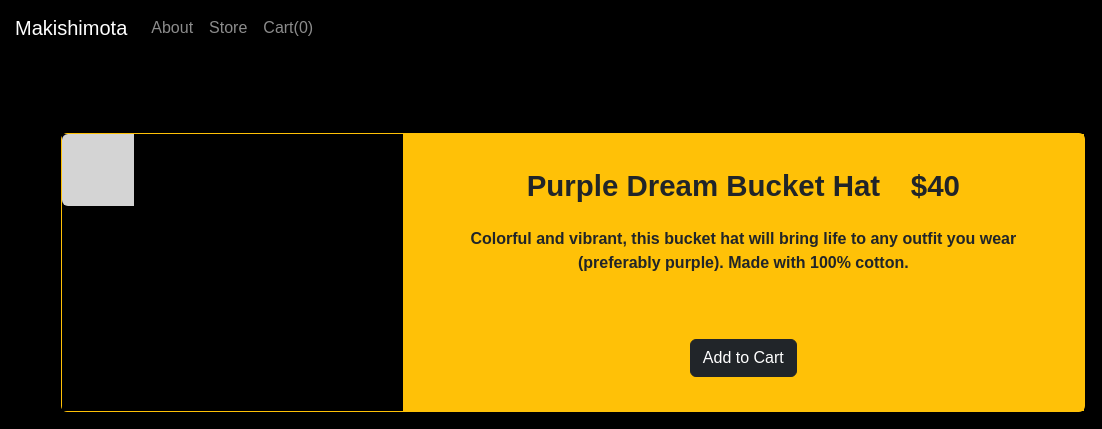
Scenario: Product is removed from cart
Note: click add to cart
Click the button "Add to Cart": click(743, 358) [690,339,797,377]
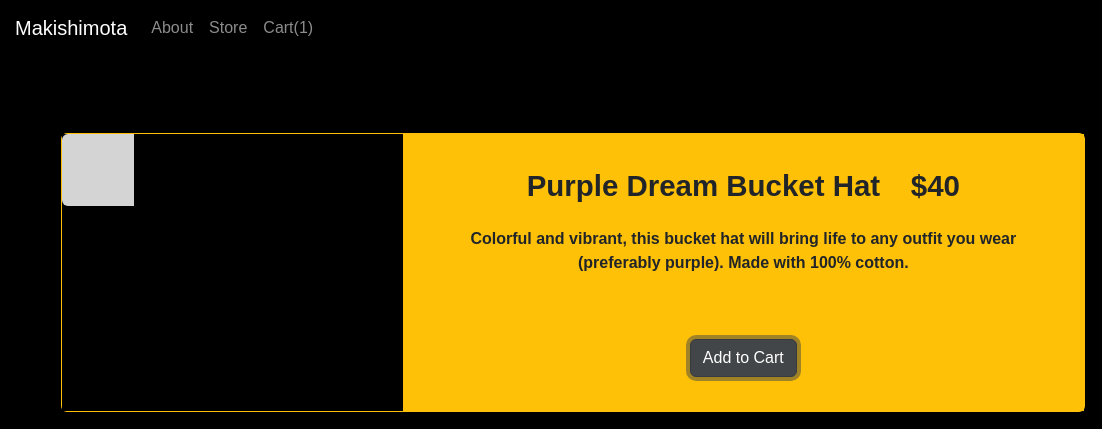
Note: navigate to shop page
Click the link "Cart(1)": click(288, 28) [255,8,321,48]
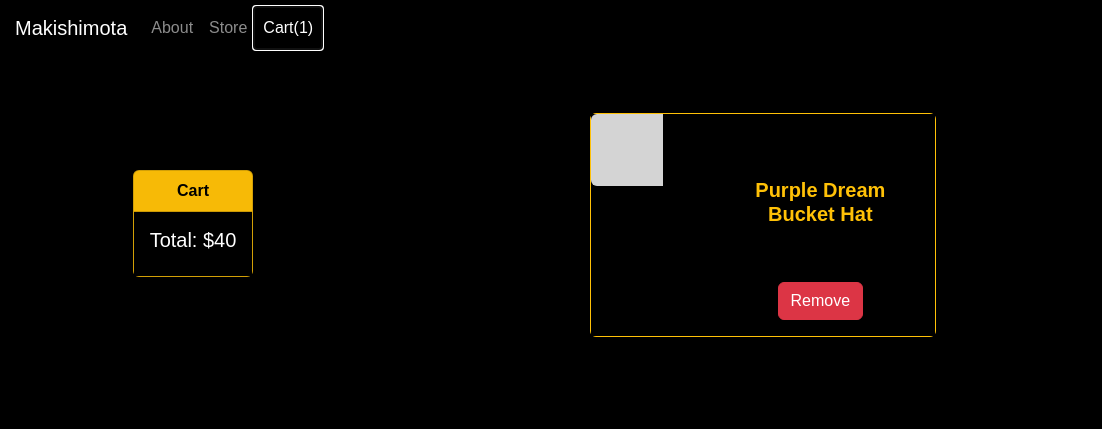
Note: click remove button
Click the button "Remove": click(820, 301) [778,282,863,320]
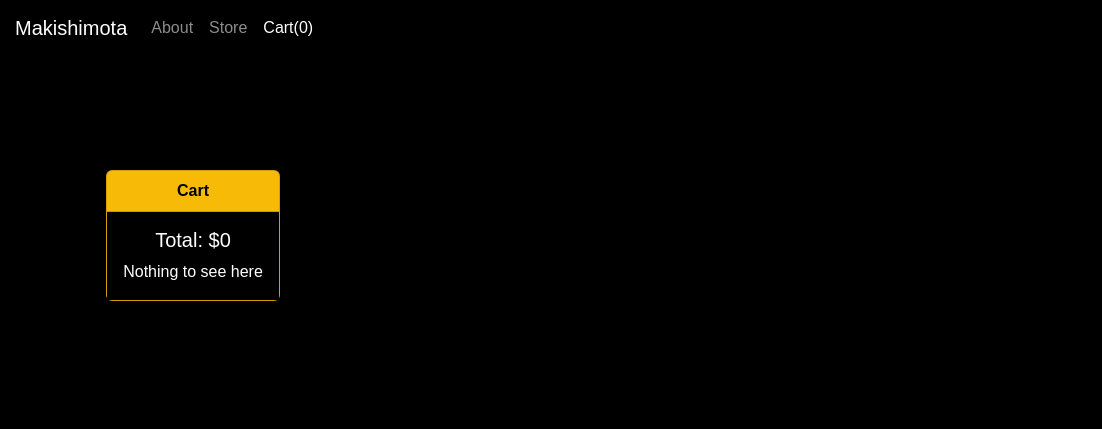
Now the text "Nothing to see here" is shown, box [123,260,263,284]
